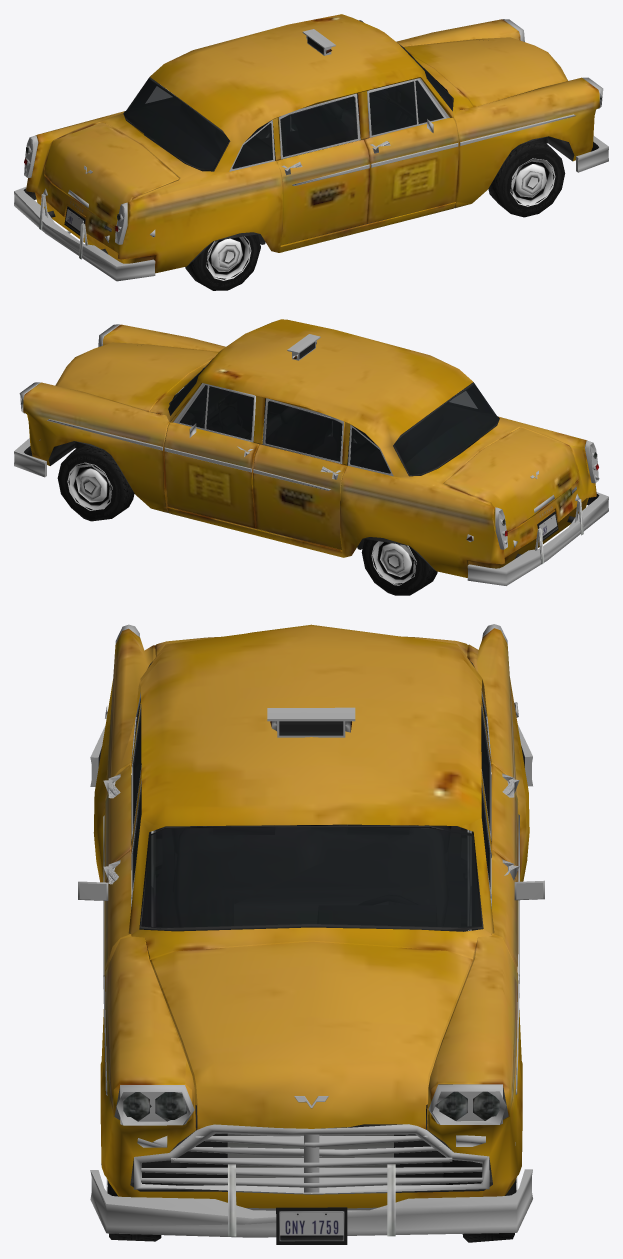
The model's file is taxi-a.glb.
The picture shows the model from 3 angles, top to bottom: view 1: azimuth 30°, elevation 25°; view 2: azimuth 150°, elevation 25°; view 3: azimuth 270°, elevation 25°; orthographic projection. The views are drawn at different scales.
Parts seen in each view (by area): view 1: Canyon75_Body_Canyon75_Bodymat_0, Canyon75_Windshield_UCB_Lights_and_Glass_Transperent_0, Canyon75_Interior_UCB_Interiors_2_0, Canyon75_Suspension_UCB_BOTTOM_0, Canyon75_WheelStock_FL_RB1c_Tire_1k_0; view 2: Canyon75_Body_Canyon75_Bodymat_0, Canyon75_Windshield_UCB_Lights_and_Glass_Transperent_0, Canyon75_Interior_UCB_Interiors_2_0, Canyon75_Suspension_UCB_BOTTOM_0, Canyon75_WheelStock_FL_RB1c_Tire_1k_0; view 3: Canyon75_Body_Canyon75_Bodymat_0, Canyon75_Suspension_UCB_BOTTOM_0, Canyon75_Windshield_UCB_Lights_and_Glass_Transperent_0, Canyon75_Interior_UCB_Interiors_2_0, Canyon75_Headlights_UCB_Lights_and_Glass_0, Canyon75_Numberplate_Rear_Numberplates_Misk_U_0, Canyon75_WheelStock_FL_RB1c_Tire_1k_0.
Boxes of the visible parts, x1,y1,x2,y2 form: Canyon75_Body_Canyon75_Bodymat_0: (26, 14, 599, 273); Canyon75_Windshield_UCB_Lights_and_Glass_Transperent_0: (123, 43, 453, 169); Canyon75_Interior_UCB_Interiors_2_0: (124, 68, 451, 171); Canyon75_Suspension_UCB_BOTTOM_0: (14, 19, 608, 281); Canyon75_WheelStock_FL_RB1c_Tire_1k_0: (185, 139, 565, 290); Canyon75_Body_Canyon75_Bodymat_0: (23, 319, 596, 577); Canyon75_Windshield_UCB_Lights_and_Glass_Transperent_0: (169, 358, 499, 474); Canyon75_Interior_UCB_Interiors_2_0: (168, 375, 498, 476); Canyon75_Suspension_UCB_BOTTOM_0: (14, 324, 608, 585); Canyon75_WheelStock_FL_RB1c_Tire_1k_0: (57, 444, 437, 595); Canyon75_Body_Canyon75_Bodymat_0: (93, 624, 529, 1208); Canyon75_Suspension_UCB_BOTTOM_0: (78, 624, 544, 1244); Canyon75_Windshield_UCB_Lights_and_Glass_Transperent_0: (132, 696, 490, 928); Canyon75_Interior_UCB_Interiors_2_0: (134, 723, 488, 931); Canyon75_Headlights_UCB_Lights_and_Glass_0: (123, 1091, 499, 1121); Canyon75_Numberplate_Rear_Numberplates_Misk_U_0: (279, 1211, 344, 1241); Canyon75_WheelStock_FL_RB1c_Tire_1k_0: (106, 1177, 517, 1242).
Bounding box in the file's own units: 5.3 × 1.82 × 2.12.
8 materials, 8 textured.
